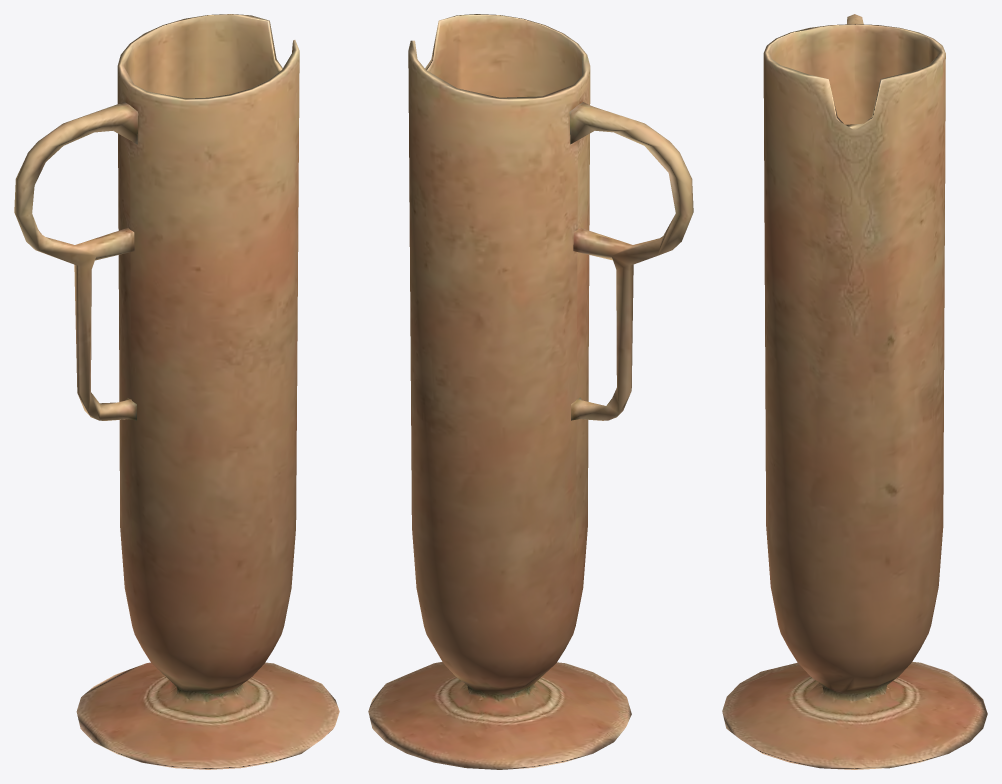
File: brass_vase_04.glb
3 views of the same model, side by side, from view 1: azimuth 30°, elevation 25°; view 2: azimuth 150°, elevation 25°; view 3: azimuth 270°, elevation 25° (orthographic).
Visible parts, largest first — view 1: brass_vase_04; view 2: brass_vase_04; view 3: brass_vase_04.
Boxes of the visible parts, left/top/right/bottom form: brass_vase_04: left=14, top=14, right=339, bottom=769; brass_vase_04: left=368, top=14, right=693, bottom=769; brass_vase_04: left=722, top=14, right=987, bottom=769.
Size of the model in its own units: 0.0817 by 0.1701 by 0.0609.
Materials: 1 (1 with a texture image).
